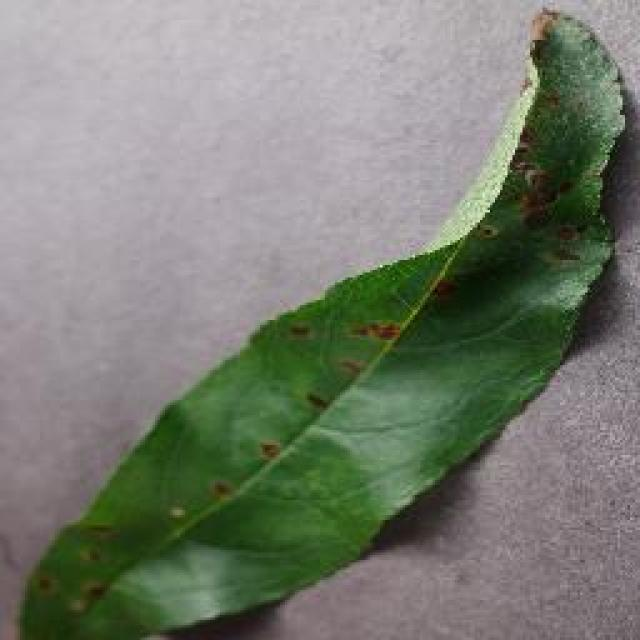Bacterial_spot: (248, 428, 320, 488), (295, 380, 365, 431), (326, 349, 389, 393), (361, 309, 417, 358), (200, 473, 256, 510)
